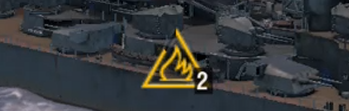2fire: (135, 55, 214, 95)
